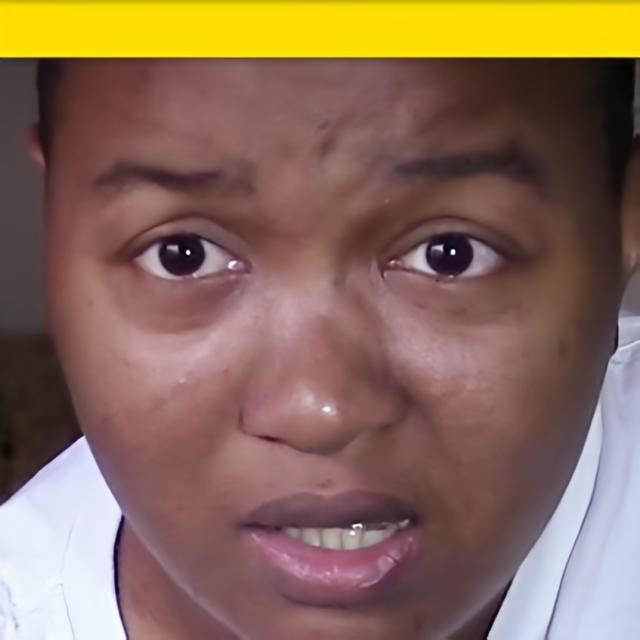Fear: (42, 58, 621, 640)
